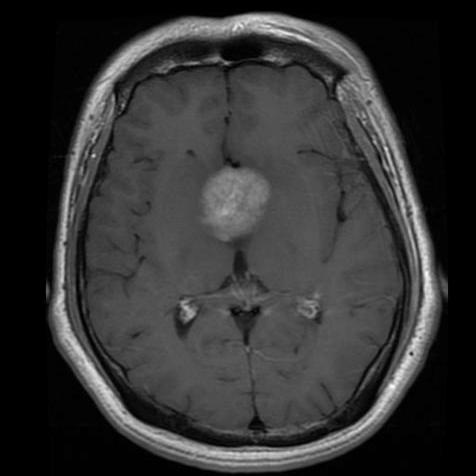Tumour-Pituitary: (197, 163, 275, 248)
